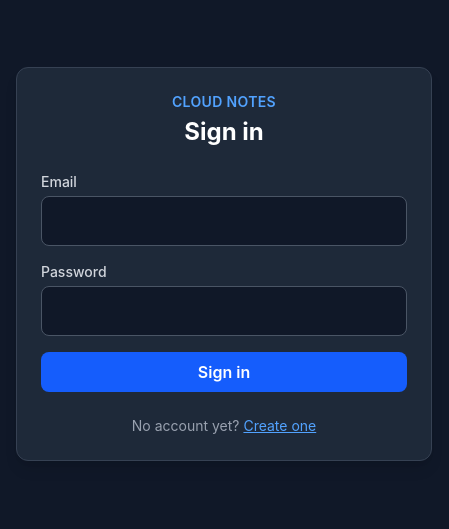
Test case: LoginPage › shows the lockout duration from Retry-After
Type "ann@example.com" into the field labelled "Email" at (224, 221), box [41,196,407,246]
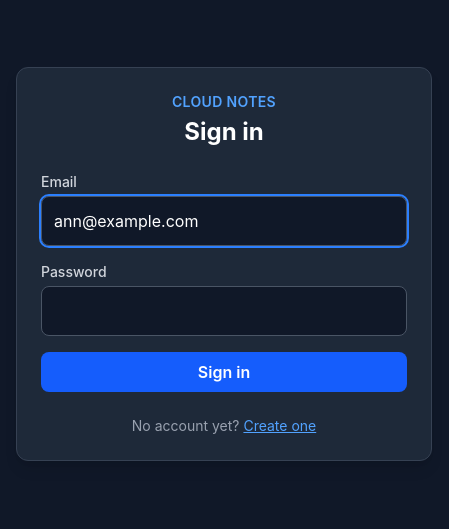
Type "wrong-password-1" into the password field labelled "Password" at (224, 311), box [41,286,407,336]
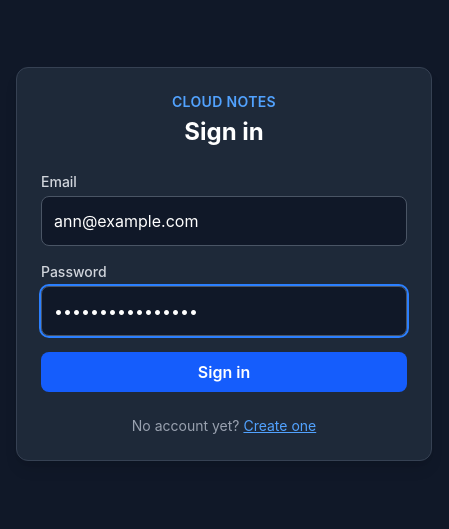
Click the button "Sign in" at (224, 372), box [41,352,407,392]
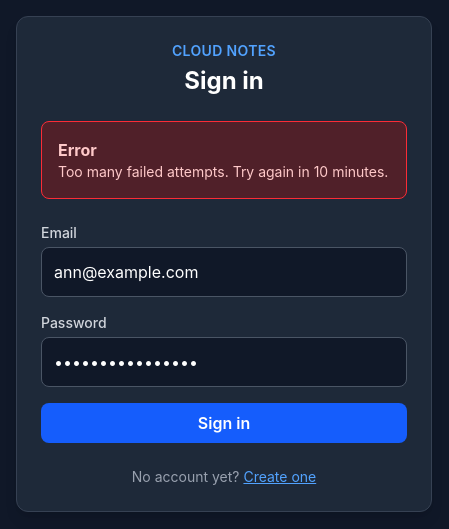
Now the message shows "Try again in 10 minutes.", box [58,163,388,180]
